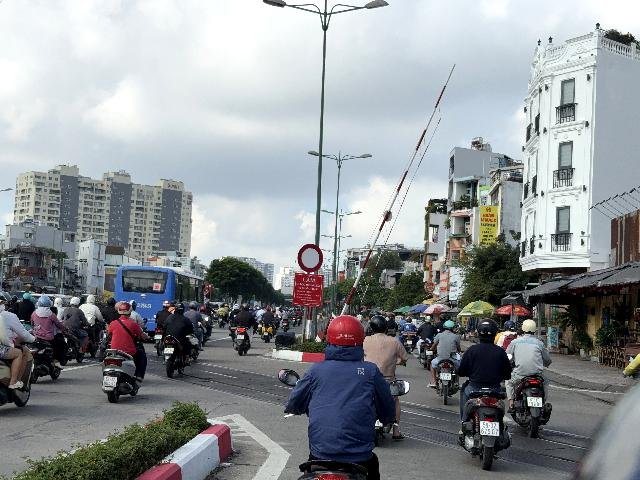duong-cam: (297, 244, 323, 273)
